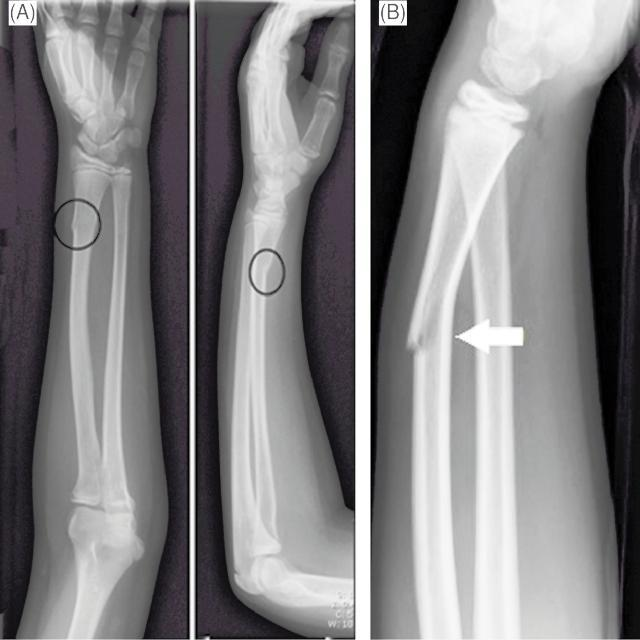GreenStick Fracture: (407, 317, 448, 364), (65, 215, 100, 242), (262, 259, 274, 280)
